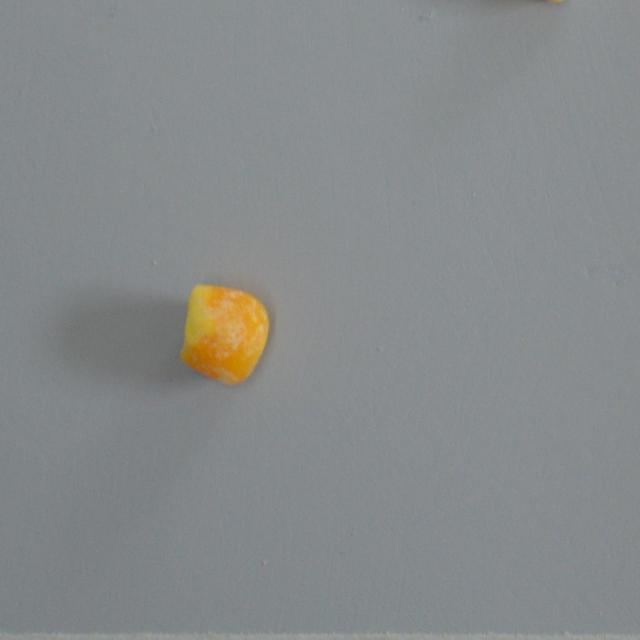pelicula: (180, 280, 270, 384)
